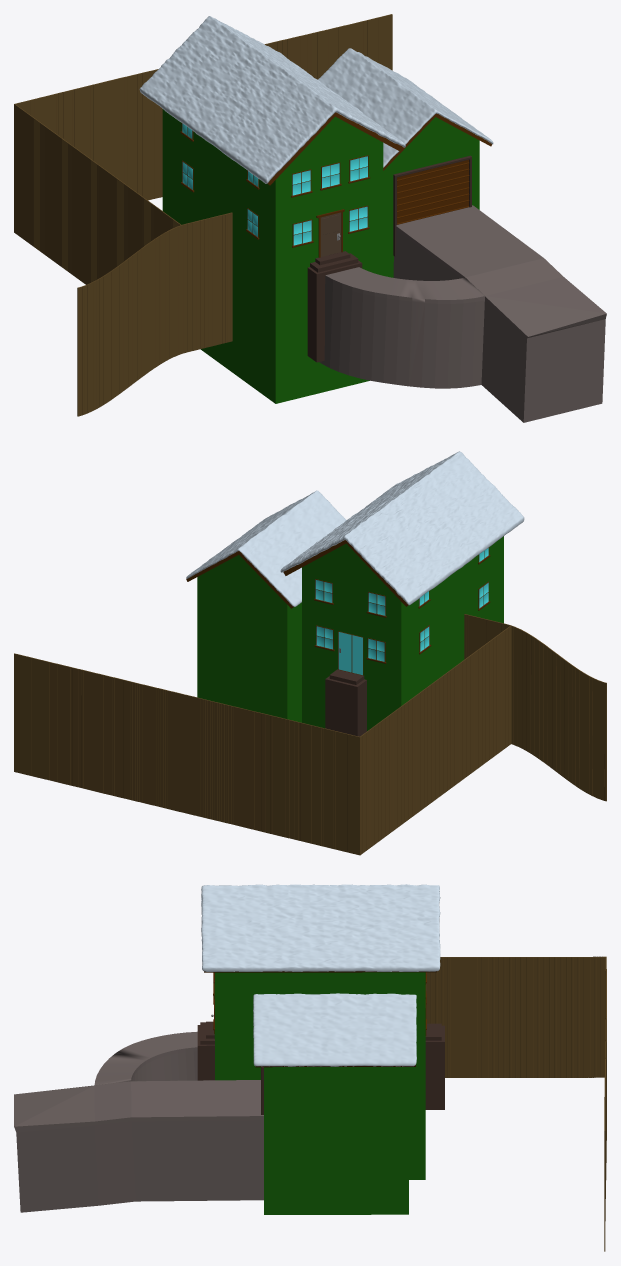
Rendered from cartmanshouse_compressed.glb.
The picture shows the model from 3 angles, top to bottom: view 1: azimuth 30°, elevation 25°; view 2: azimuth 150°, elevation 25°; view 3: azimuth 270°, elevation 25°; orthographic projection. The views are drawn at different scales.
Parts seen in each view (by area): view 1: Cube.751, Cube.745, Cube.750, Cube.764, Cube.746, Cube.747, Cube.760; view 2: Cube.751, Cube.750, Cube.764, Cube.746, Cube.747; view 3: Cube.745, Cube.764, Cube.750, Cube.751, Cube.747, Cube.746.
Boxes of the visible parts, x1,y1,x2,y2 form: Cube.751: (14, 14, 392, 416); Cube.745: (319, 205, 606, 422); Cube.750: (162, 109, 479, 403); Cube.764: (139, 16, 493, 183); Cube.746: (180, 112, 492, 257); Cube.747: (307, 155, 471, 362); Cube.760: (320, 212, 341, 256); Cube.751: (14, 614, 606, 855); Cube.750: (197, 536, 503, 730); Cube.764: (186, 451, 524, 606); Cube.746: (186, 540, 490, 675); Cube.747: (325, 669, 366, 736); Cube.745: (14, 1031, 263, 1212); Cube.764: (201, 884, 440, 1066); Cube.750: (214, 972, 425, 1214); Cube.751: (426, 956, 606, 1251); Cube.747: (197, 1021, 444, 1114); Cube.746: (204, 971, 436, 1067).
Size of the model in its own units: 5.2 by 3.05 by 5.94.
